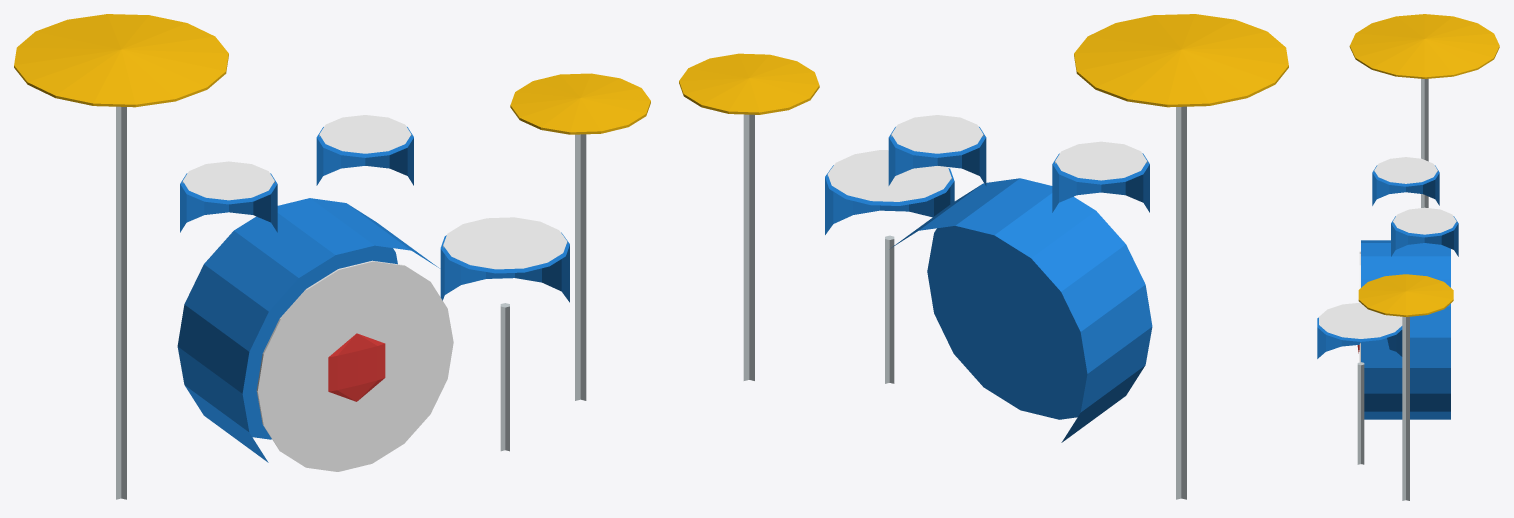
File: trumset.glb
The picture shows the model from 3 angles, left to right: view 1: azimuth 30°, elevation 25°; view 2: azimuth 150°, elevation 25°; view 3: azimuth 270°, elevation 25°; orthographic projection. The views are drawn at different scales.
Visible parts, largest first — view 1: trumset; view 2: trumset; view 3: trumset.
Part boxes in pixels (x1=…): trumset: x1=14, y1=14, x2=650, y2=499; trumset: x1=679, y1=14, x2=1288, y2=499; trumset: x1=1317, y1=14, x2=1499, y2=500.
Bounding box in the file's own units: 1.28 × 0.9199 × 0.4869.
